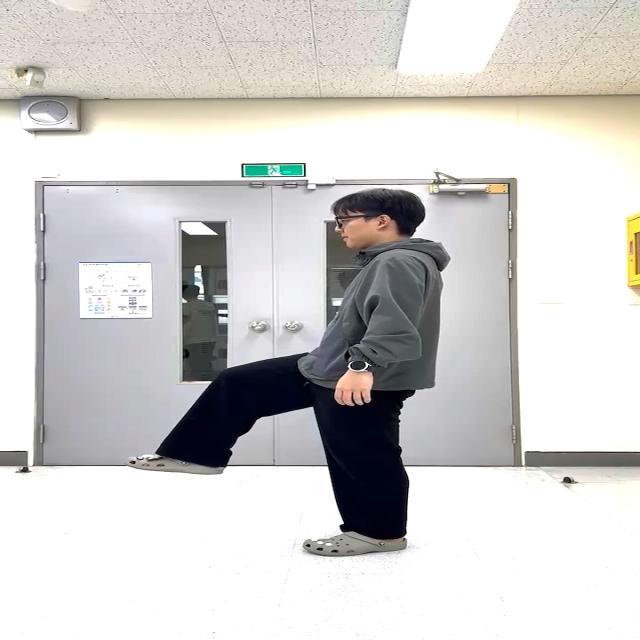leg: (125, 352, 314, 474), (302, 382, 412, 556)
